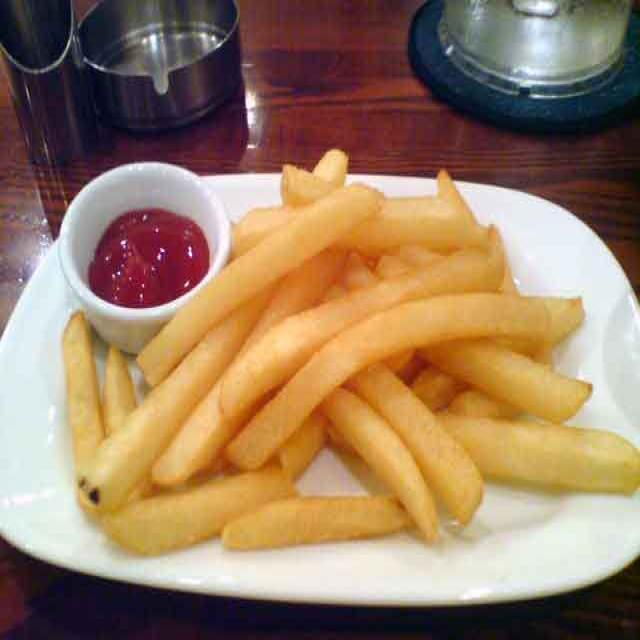French Fries: (102, 200, 629, 534)
Sauce: (92, 203, 210, 310)
